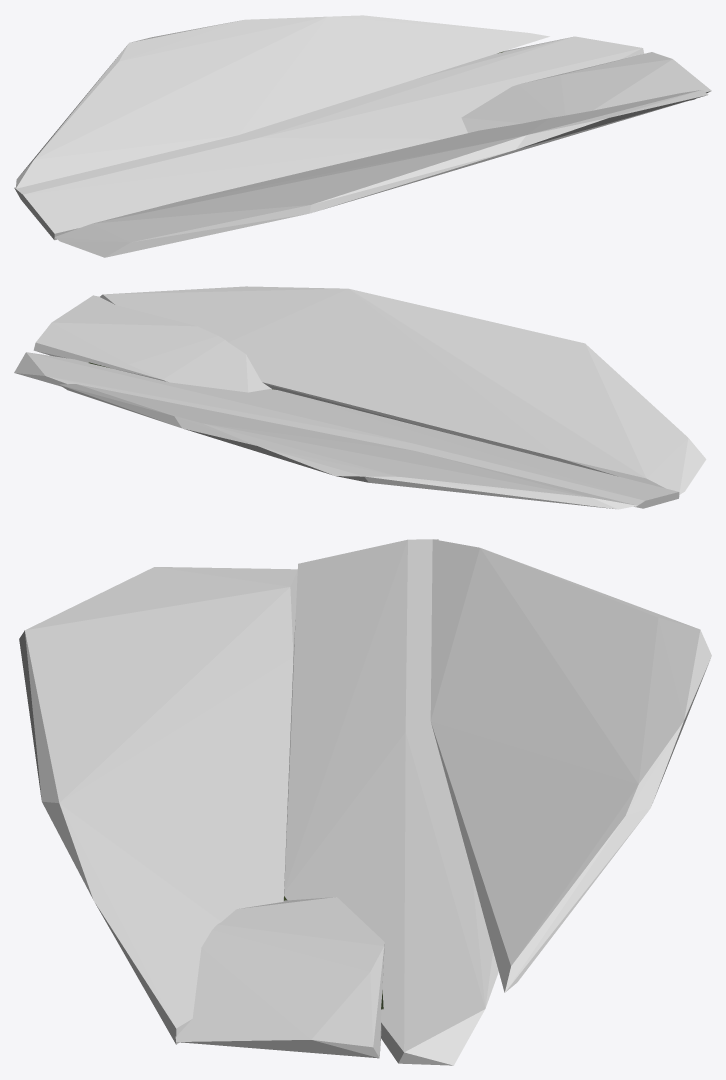
The model's file is SM_Leaf_03.fbx.
The picture shows the model from 3 angles, top to bottom: view 1: azimuth 30°, elevation 25°; view 2: azimuth 150°, elevation 25°; view 3: azimuth 270°, elevation 25°; orthographic projection. The views are drawn at different scales.
Parts seen in each view (by area): view 1: SM_Leaf_03_ConvexHulls; view 2: SM_Leaf_03_ConvexHulls; view 3: SM_Leaf_03_ConvexHulls.
Boxes of the visible parts, <box> form: SM_Leaf_03_ConvexHulls: <box>14,15,711,257</box>; SM_Leaf_03_ConvexHulls: <box>14,286,706,509</box>; SM_Leaf_03_ConvexHulls: <box>19,539,711,1065</box>.
Size of the model in its own units: 21.21 by 12.27 by 2.03.
